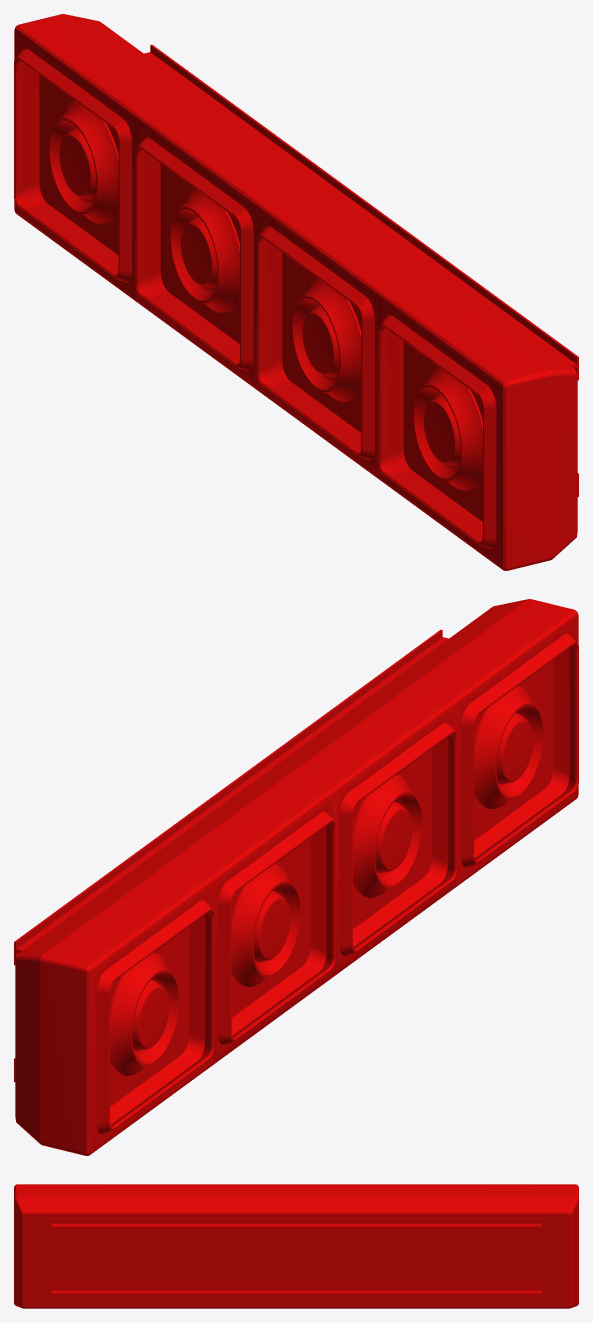
The model's file is Ventilation_1.fbx.
3 renders of one model, top to bottom at view 1: azimuth 30°, elevation 25°; view 2: azimuth 150°, elevation 25°; view 3: azimuth 270°, elevation 25°, orthographic. The views are drawn at different scales.
Visible parts, largest first — view 1: L7:polySurface1856; view 2: L7:polySurface1856; view 3: L7:polySurface1856.
Part boxes in pixels (<box>): L7:polySurface1856: <box>14,14,578,570</box>; L7:polySurface1856: <box>14,599,578,1155</box>; L7:polySurface1856: <box>14,1184,578,1308</box>.
Bounding box in the file's own units: 58.71 × 90.89 × 426.
